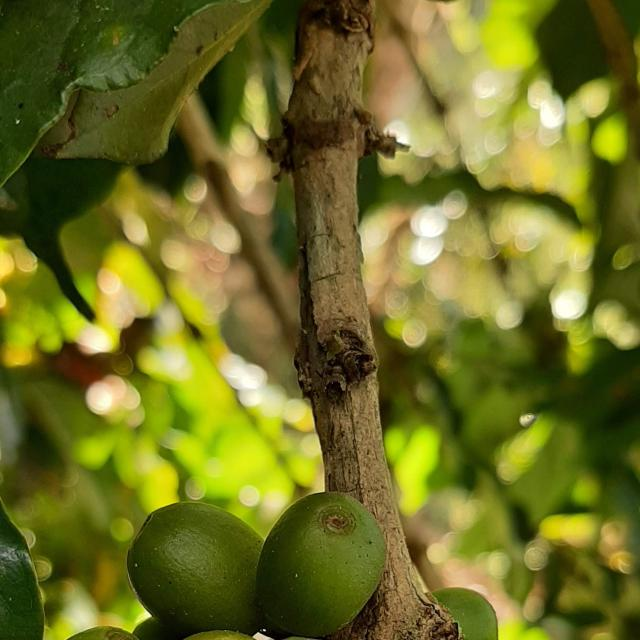green: (257, 493, 386, 639), (126, 503, 263, 637), (433, 589, 499, 640)
